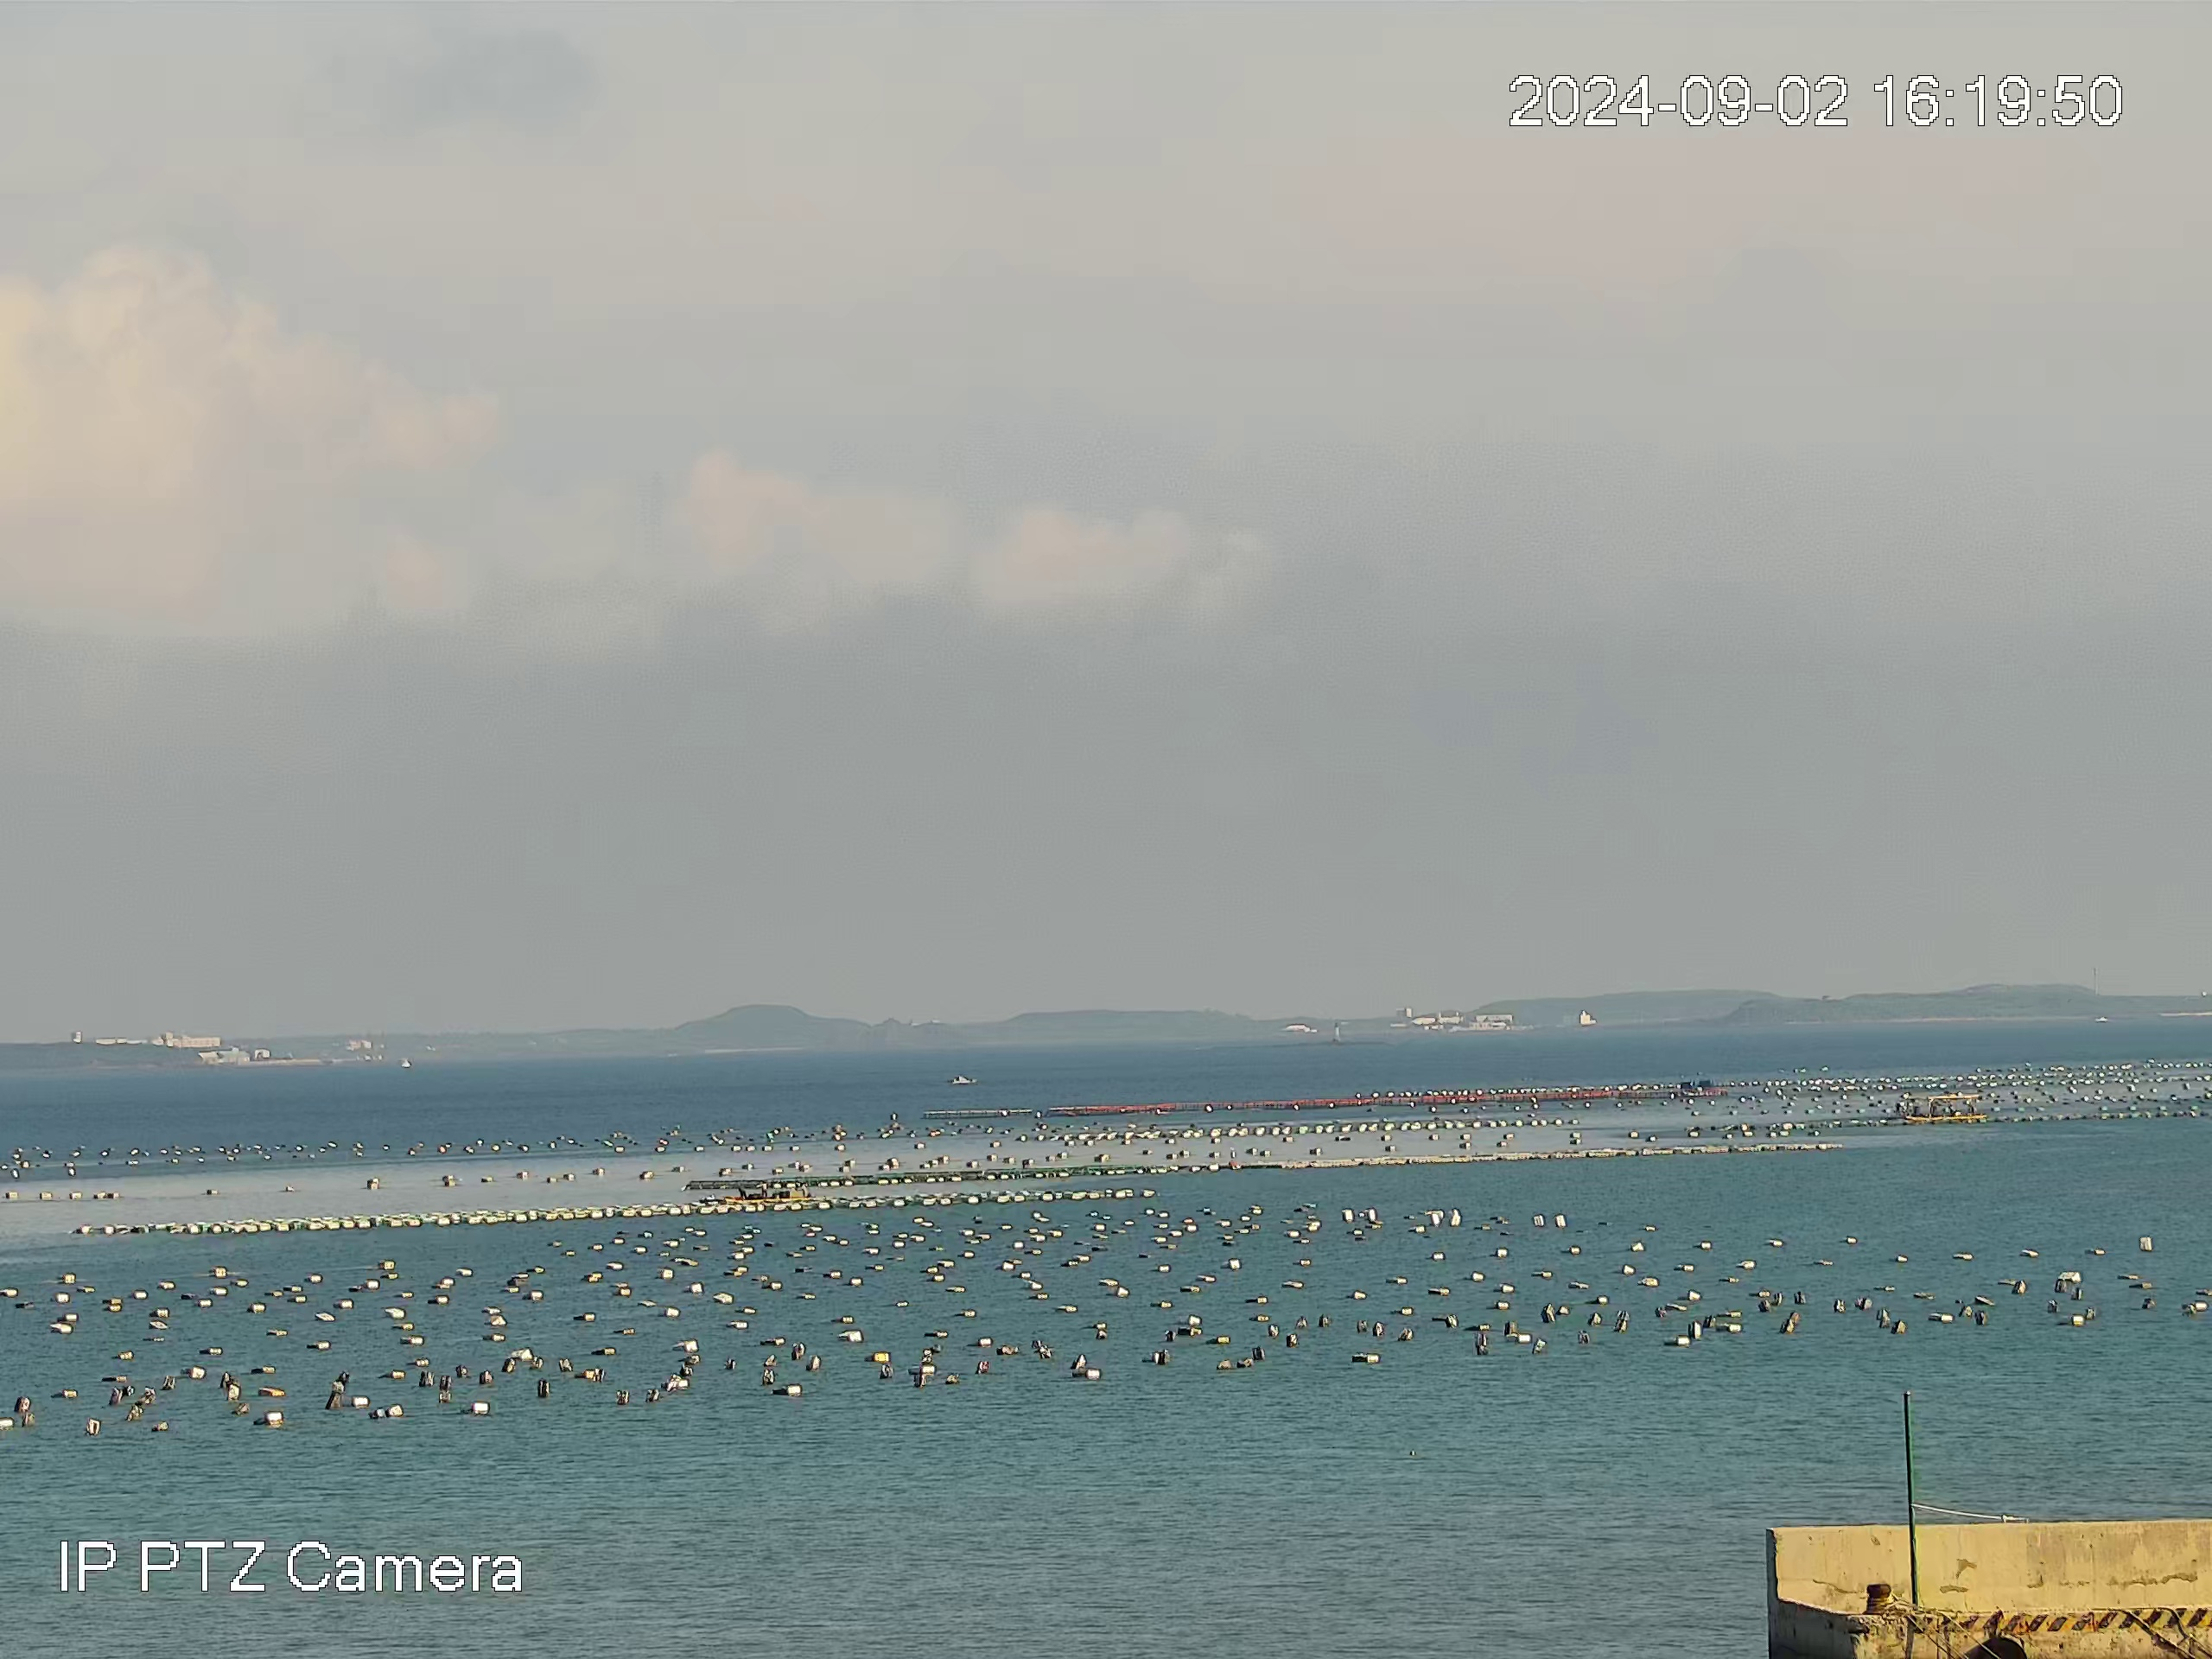boat: (1902, 1093, 1989, 1126), (723, 1182, 813, 1204), (951, 1073, 979, 1086)
